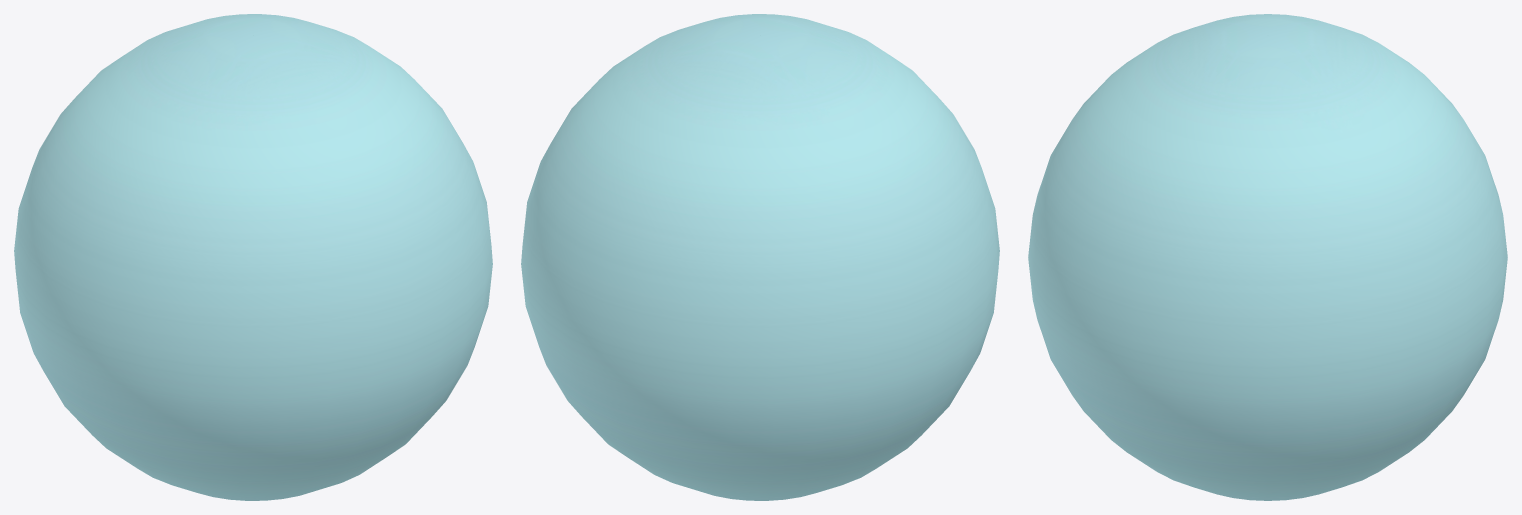
The model's file is urano.glb.
3 views of the same model, side by side, from view 1: azimuth 30°, elevation 25°; view 2: azimuth 150°, elevation 25°; view 3: azimuth 270°, elevation 25° (orthographic).
Parts seen in each view (by area): view 1: Esfera; view 2: Esfera; view 3: Esfera.
Boxes of the visible parts, <box> form: Esfera: <box>14,14,492,500</box>; Esfera: <box>521,14,999,500</box>; Esfera: <box>1028,14,1507,500</box>.
Size of the model in its own units: 1.89 by 1.92 by 1.89.
Materials: 1 (1 with a texture image).
